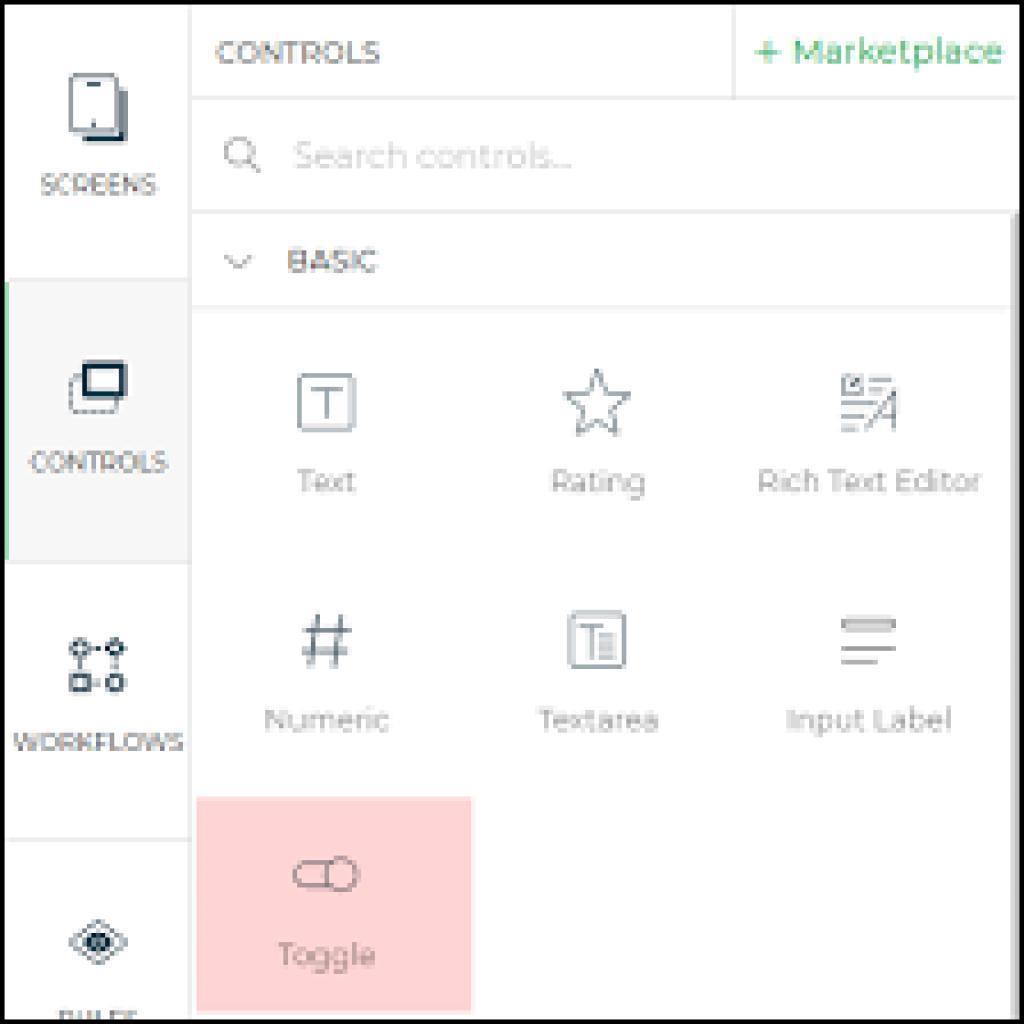dropdown: (194, 217, 1008, 306)
icon: (546, 366, 640, 451), (60, 61, 137, 160), (62, 625, 141, 707), (286, 365, 366, 443), (56, 361, 138, 431), (826, 611, 902, 682), (832, 372, 909, 442), (562, 606, 627, 678), (296, 611, 365, 671), (219, 129, 280, 188)
switch: (286, 850, 369, 899)
